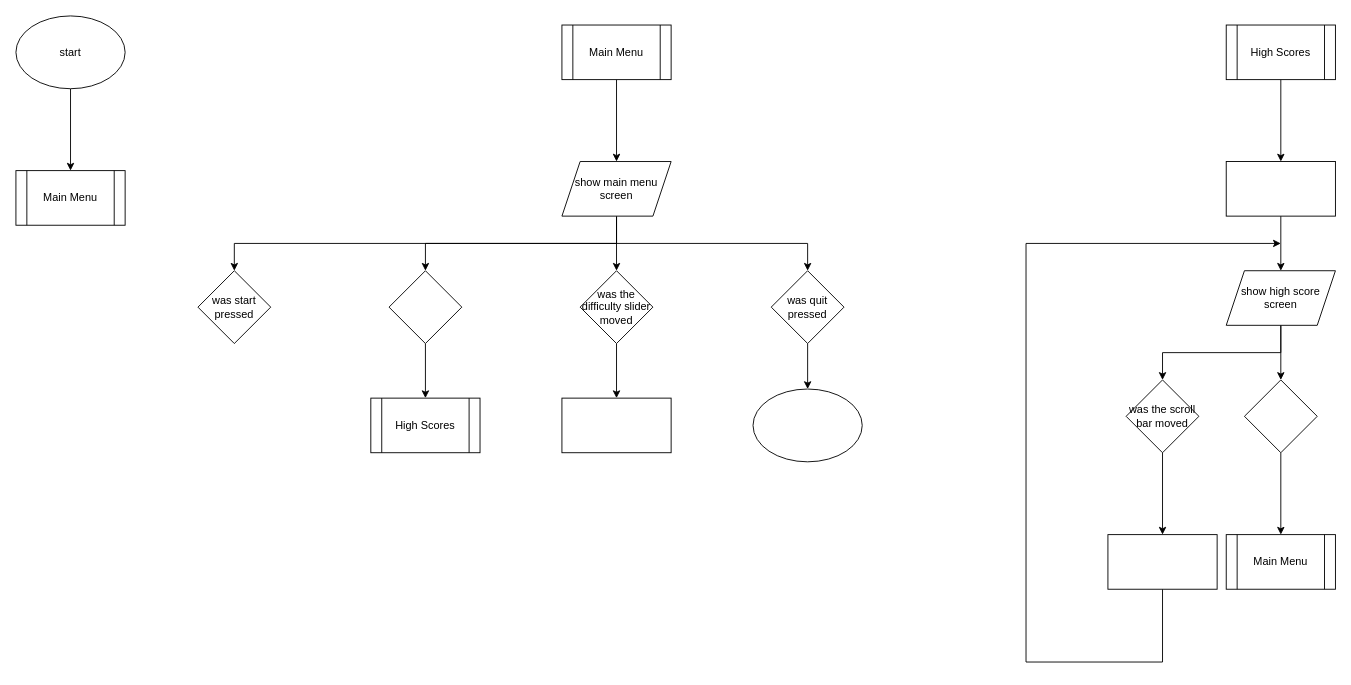
The diagram is 1351 pixels wide and 685 high, and some of its shapes have lost their labels. The centre of each missing label's shape, as x and y in pixels:
"End" belongs at point (807, 425).
"load scores from stored file" belongs at point (1280, 188).
"Update the difficulty to what it was moved to" belongs at point (616, 425).
"update the scroll variable offset" belongs at point (1162, 561).
"was high scores pressed" belongs at point (425, 307).
"was main menu pressed" belongs at point (1280, 416).
